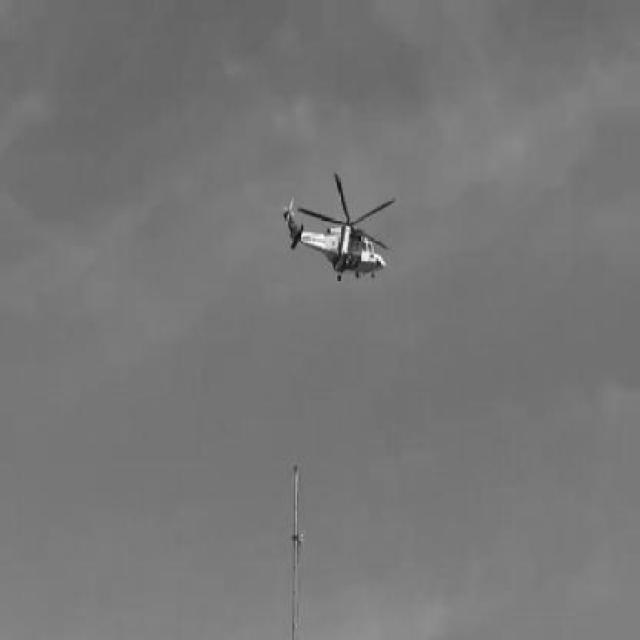helikopter: (280, 172, 394, 282)
